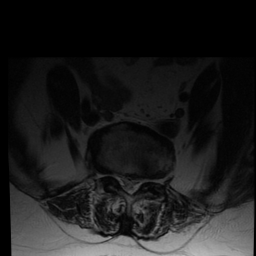CCS_normal: (126, 168, 134, 200)
LFS_stenosis: (143, 172, 150, 191)
LLS_stenosis: (134, 172, 142, 193)
RFS_severe_stenosis: (109, 166, 116, 187)
RLS_normal: (116, 168, 124, 191)
